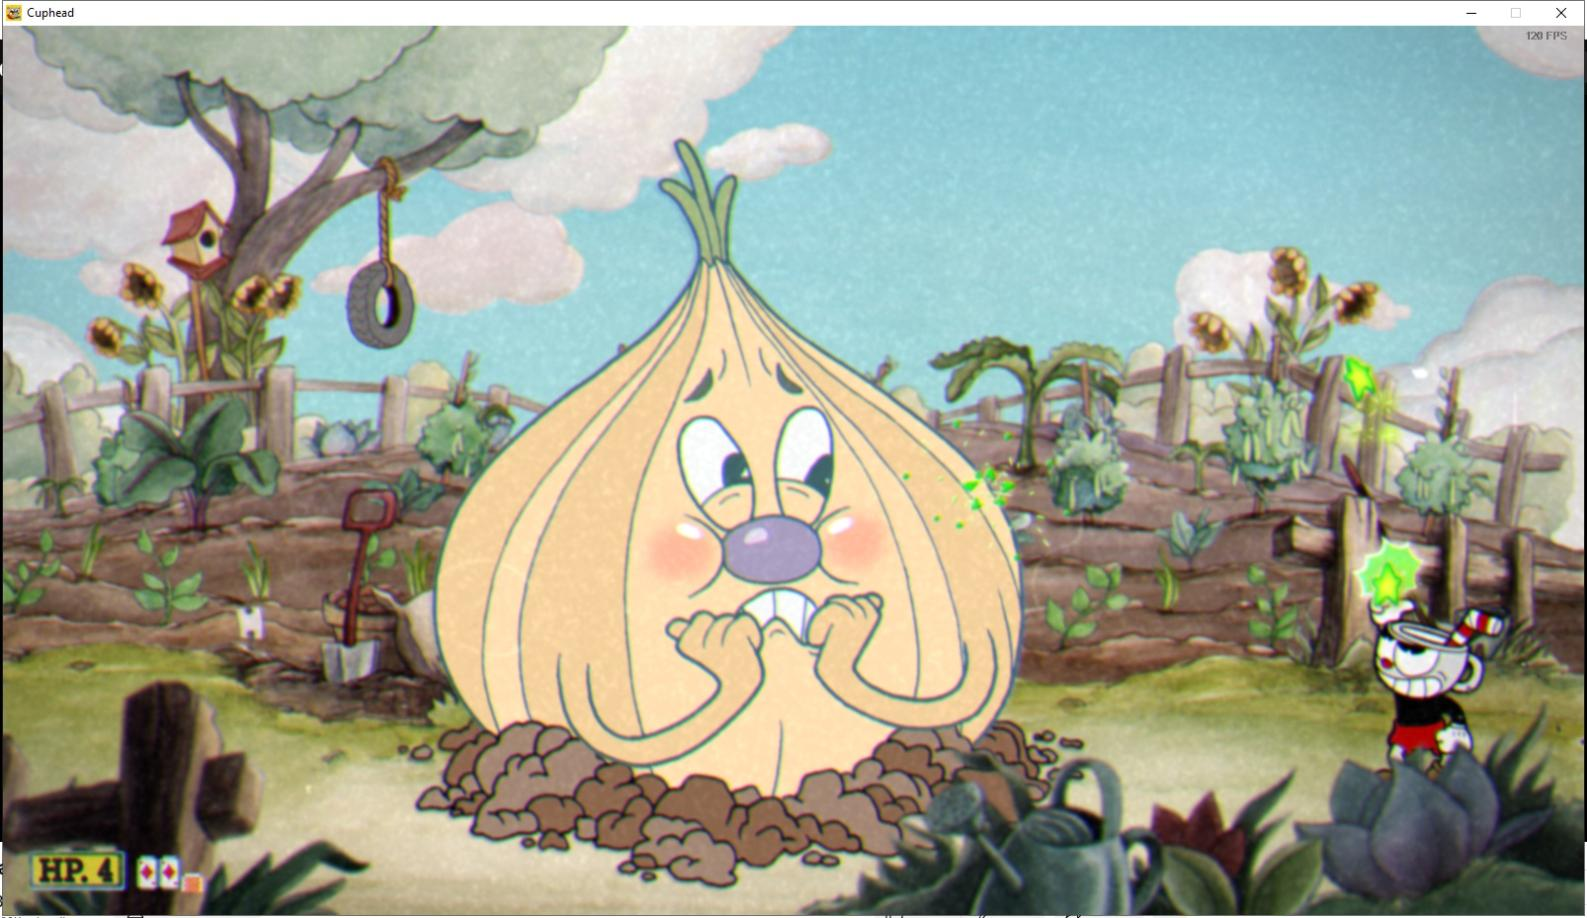hp4: (92, 852, 124, 890)
onion_boss: (425, 155, 1033, 795)
player: (1352, 573, 1508, 797)
